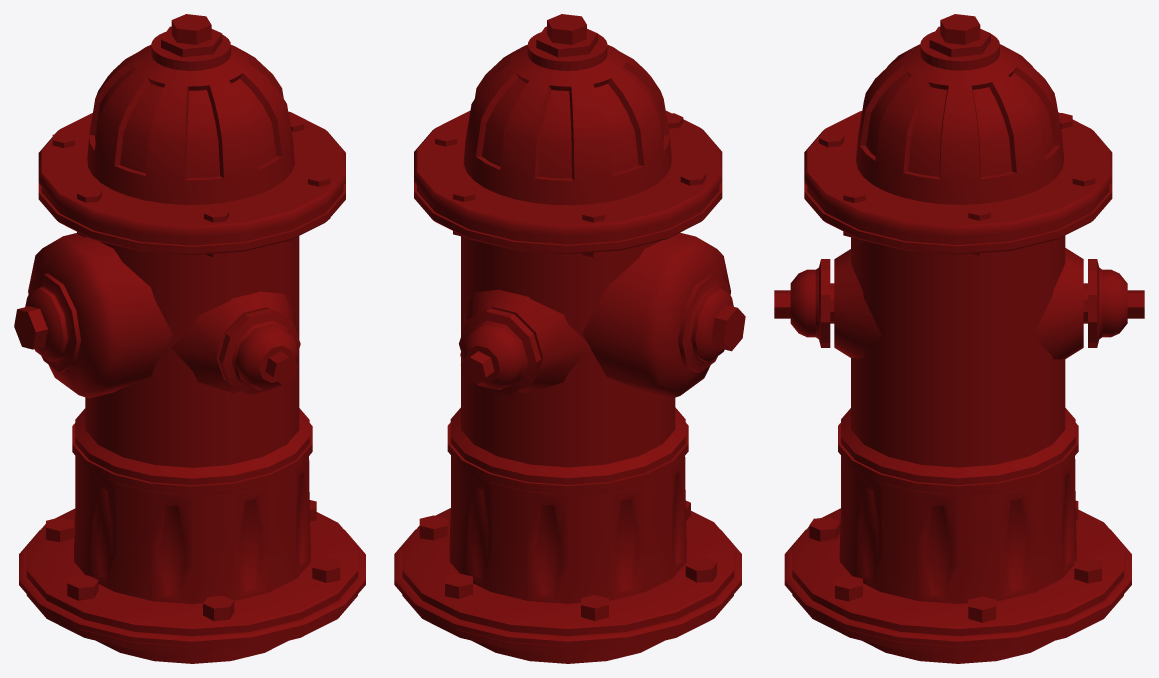
Rendered from Fire Hydrant.FBX.
3 renders of one model, left to right at view 1: azimuth 30°, elevation 25°; view 2: azimuth 150°, elevation 25°; view 3: azimuth 270°, elevation 25°, orthographic.
Visible parts, largest first — view 1: Hydrant Model; view 2: Hydrant Model; view 3: Hydrant Model.
Part boxes in pixels (x1,y1,x2,y2): Hydrant Model: (14, 14, 365, 663); Hydrant Model: (394, 14, 745, 663); Hydrant Model: (774, 14, 1144, 663).
Size of the model in its own units: 36.17 by 64.18 by 36.27.
